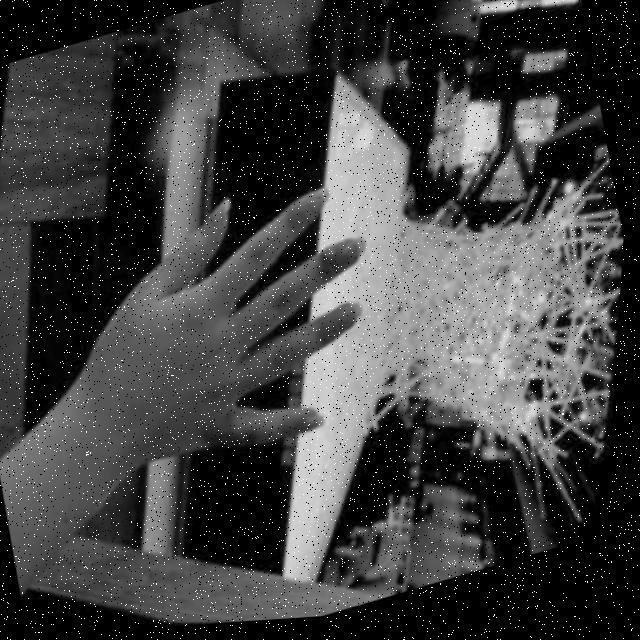no-gloves: (70, 160, 418, 492)
